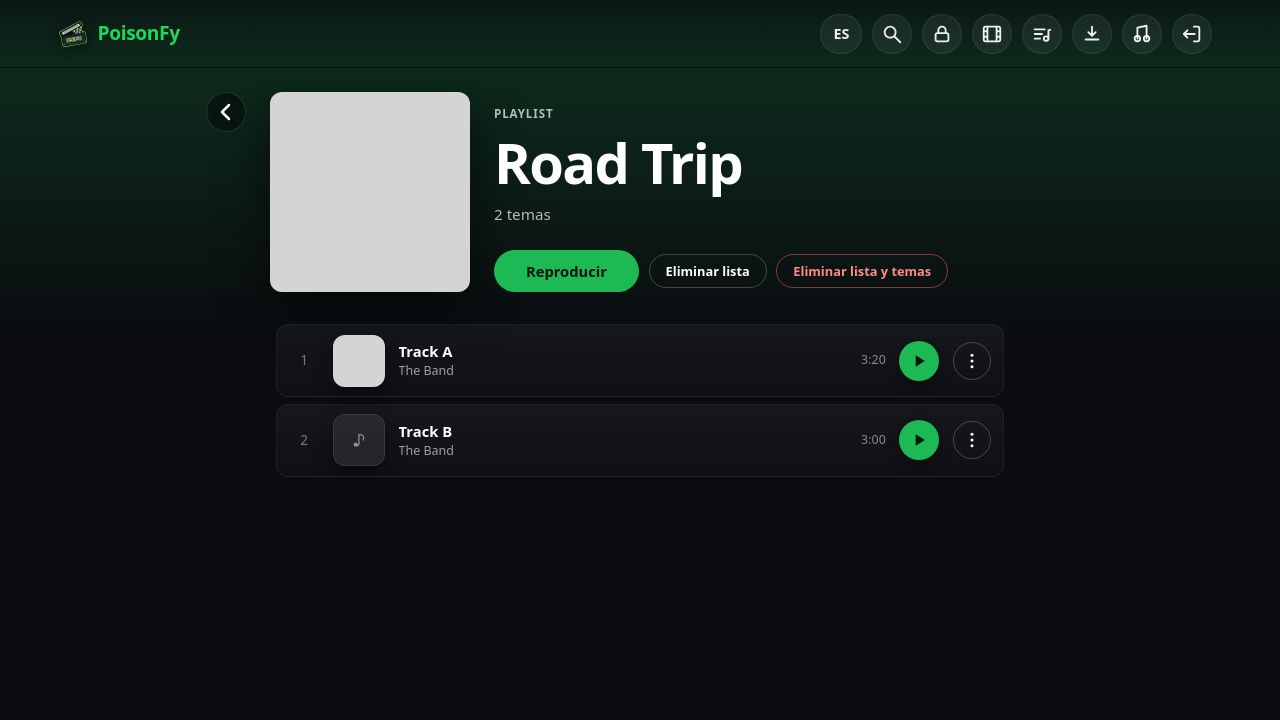
Test: PlaylistScreen (Playlists — detail) › "Reproducir" plays the whole playlist from the first track (playNow)
The image size is (1280, 720).
Expected: the text "Track A" is shown, [399,341,452,361]
Click the button "Reproducir" at (566, 271), box [494,250,639,292]
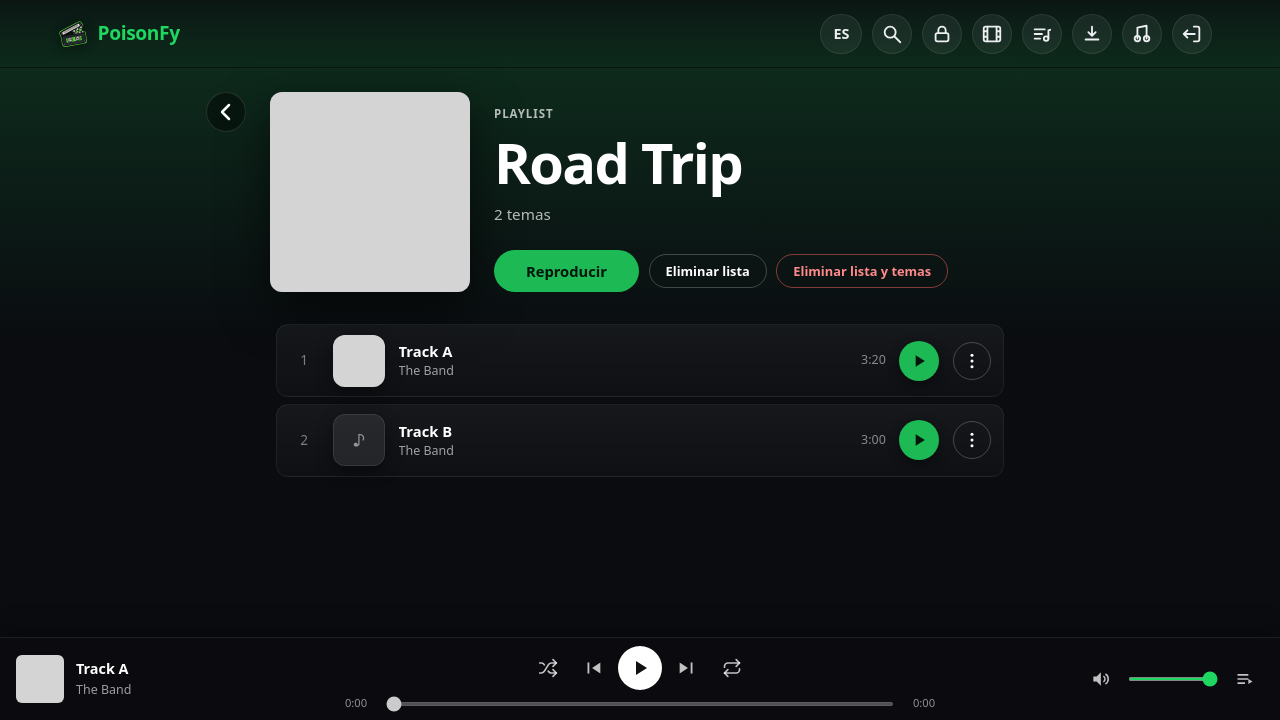
Now the 2nd text "Track A" is shown, box [76,659,128,678]
